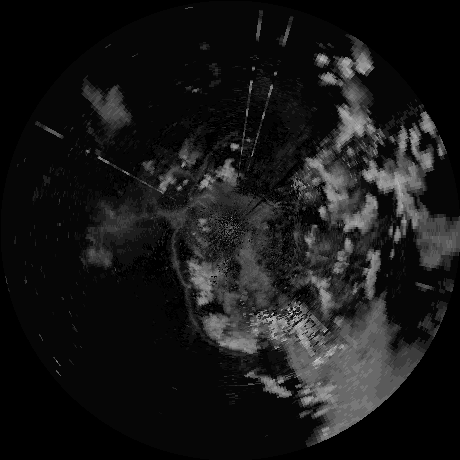frontgust: (183, 288, 220, 351), (190, 142, 220, 197), (171, 224, 191, 287)
